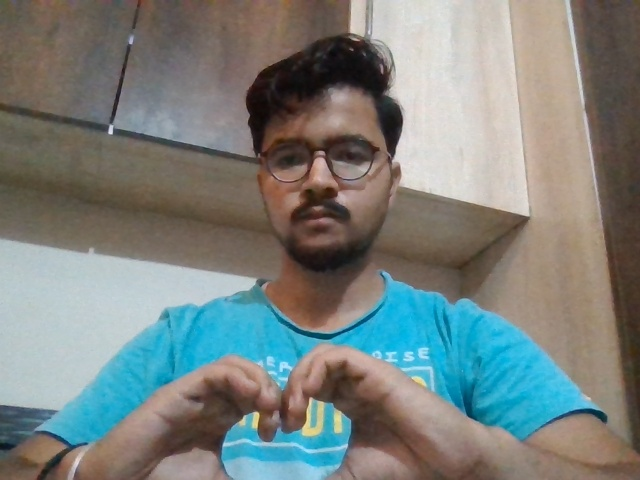iloveyou: (104, 341, 479, 480)
